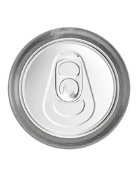Intacto: (15, 37, 121, 142)
